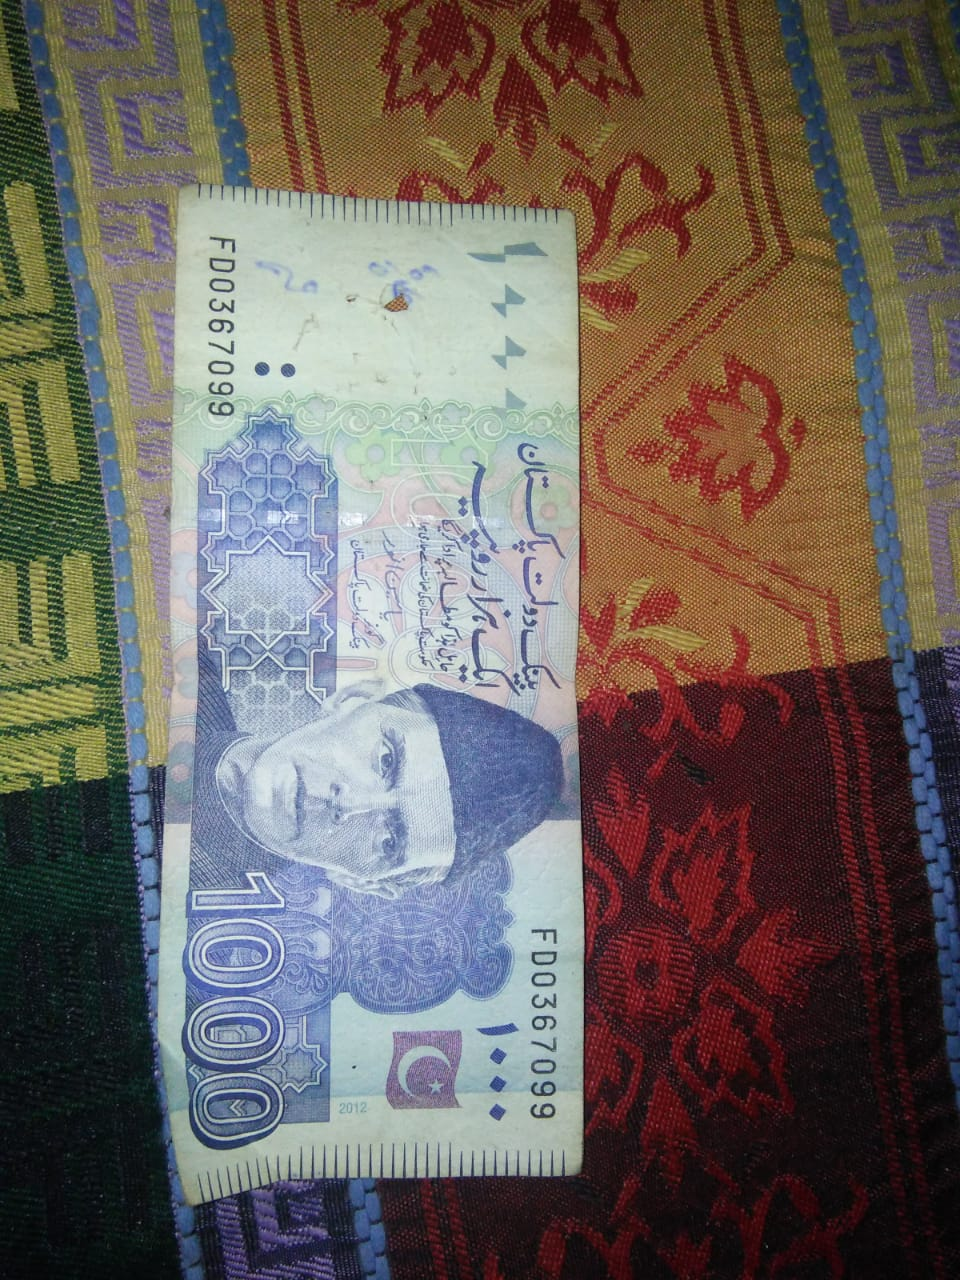1000 rupee: (153, 177, 627, 1206)
